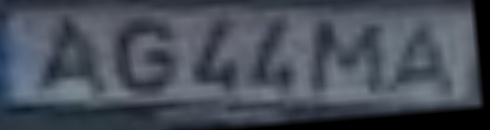4: (241, 15, 305, 105), (186, 17, 248, 100)
A: (28, 15, 124, 106), (381, 20, 468, 106)
G: (109, 16, 188, 107)
M: (308, 19, 393, 103)
